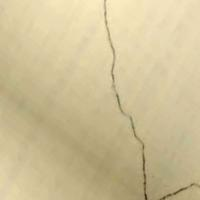crack: (91, 0, 199, 199)
